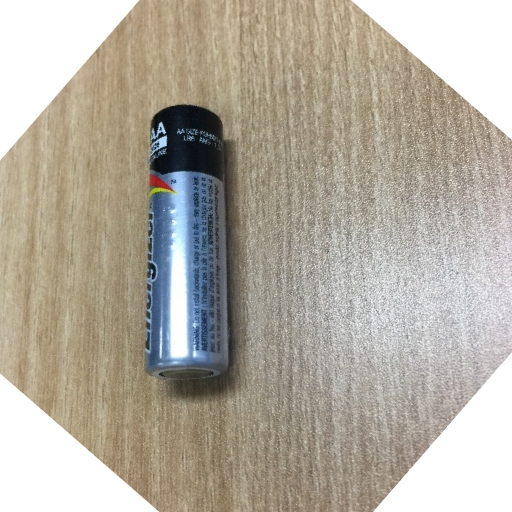Battery_0: (140, 96, 245, 390)
